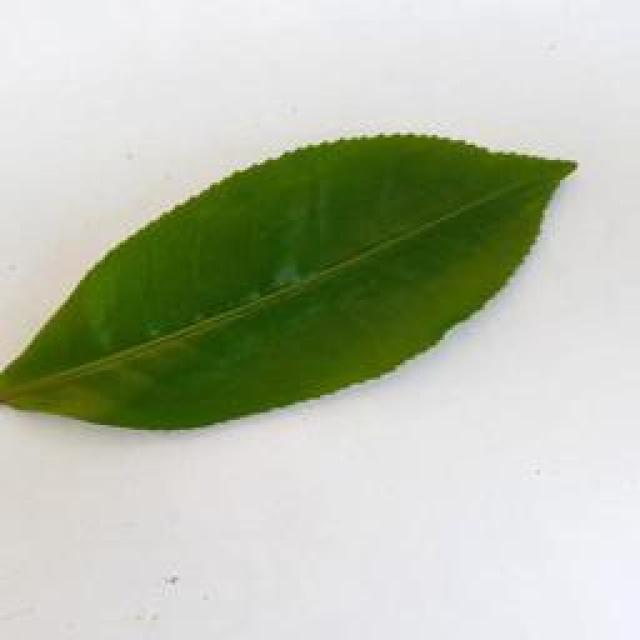Healthy: (3, 120, 584, 455)
